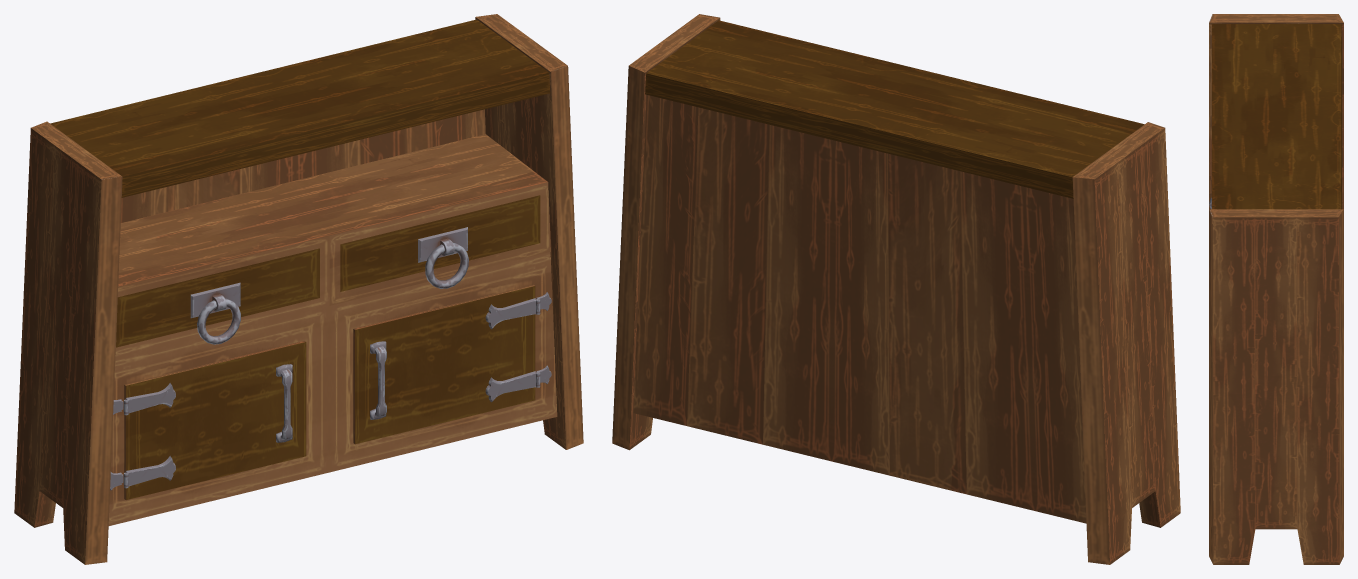
File: Cabinet.gltf
3 views of the same model, side by side, from view 1: azimuth 30°, elevation 25°; view 2: azimuth 150°, elevation 25°; view 3: azimuth 270°, elevation 25° (orthographic). The views are drawn at different scales.
Visible parts, largest first — view 1: Cabinet; view 2: Cabinet; view 3: Cabinet.
Boxes of the visible parts, bbox=[...] form: Cabinet: bbox=[14, 14, 583, 564]; Cabinet: bbox=[612, 14, 1180, 564]; Cabinet: bbox=[1209, 14, 1343, 564].
Bounding box in the file's own units: 1.36 × 0.9974 × 0.3571.
2 materials, 2 textured.
